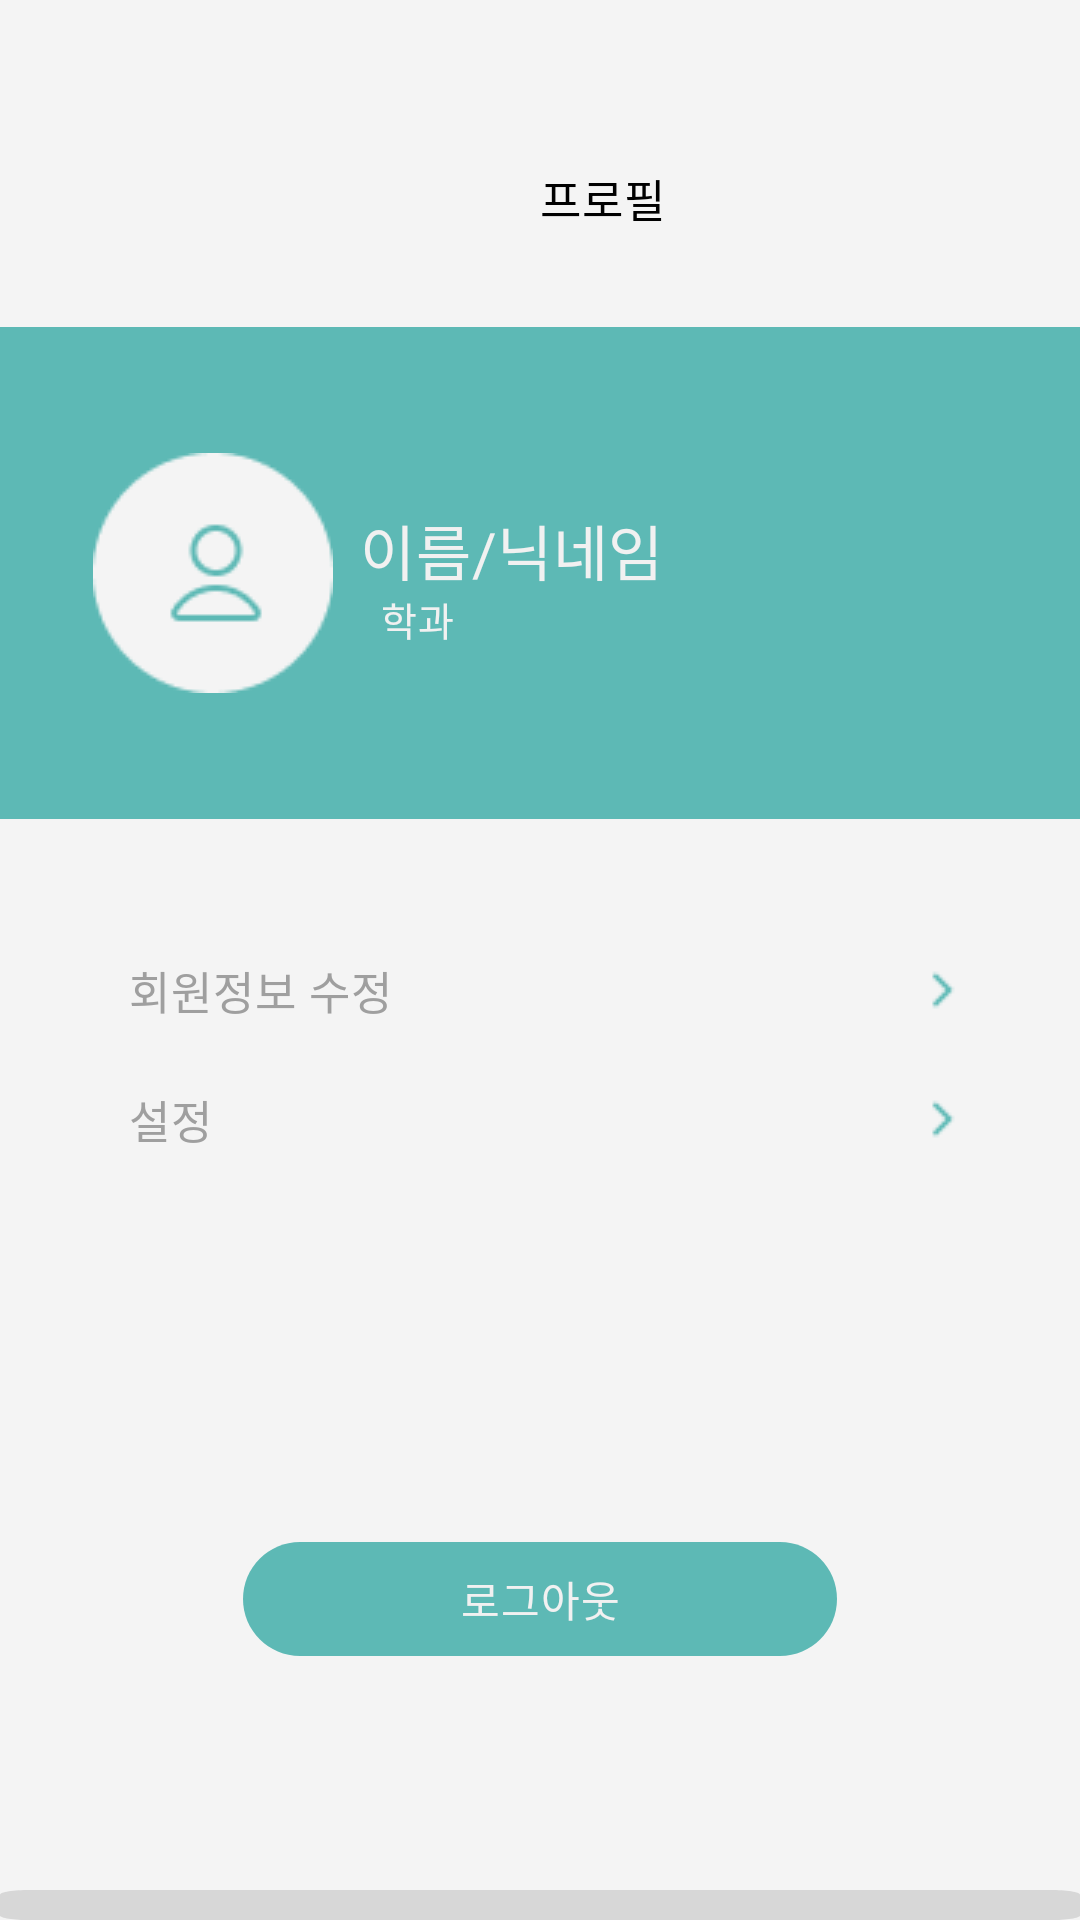

Icon bounding boxes for this 1080×1920 phone screenshot, format box=[x1, y1, x2, y2]:
chevron: box=[932, 972, 953, 1008], box=[932, 1101, 953, 1137]
mypage user: box=[93, 453, 333, 693]
